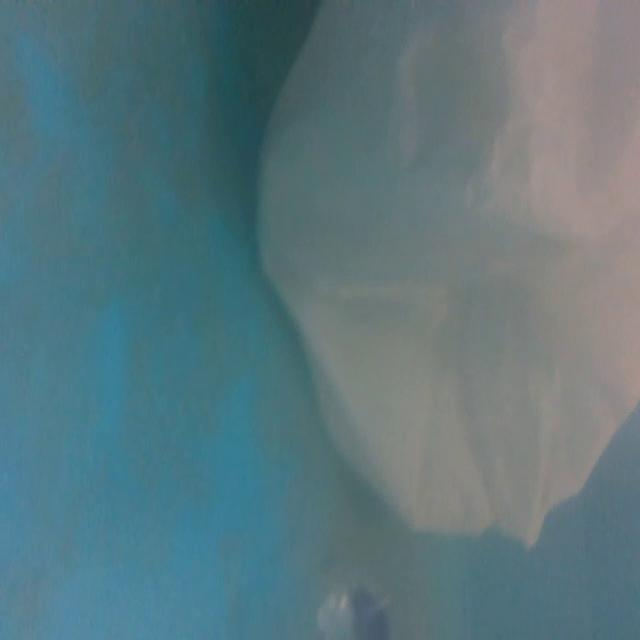plastic bags: (248, 5, 640, 543)
plastic bottle: (295, 572, 432, 640)
